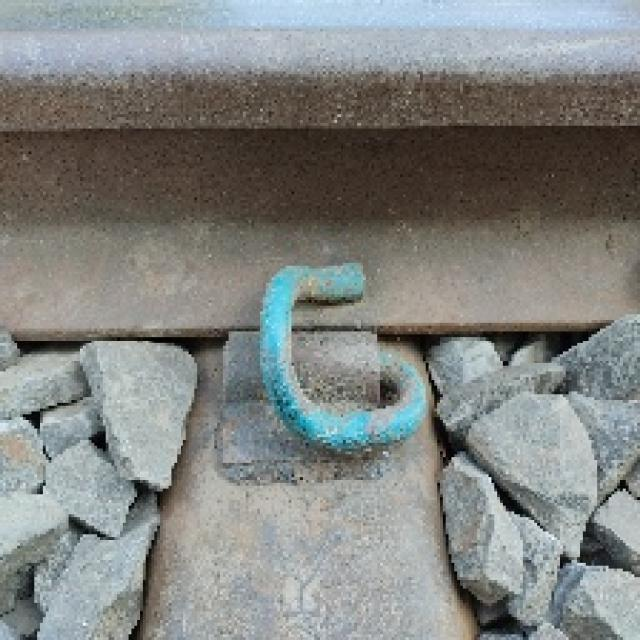Good Fasteners: (203, 266, 426, 480)
